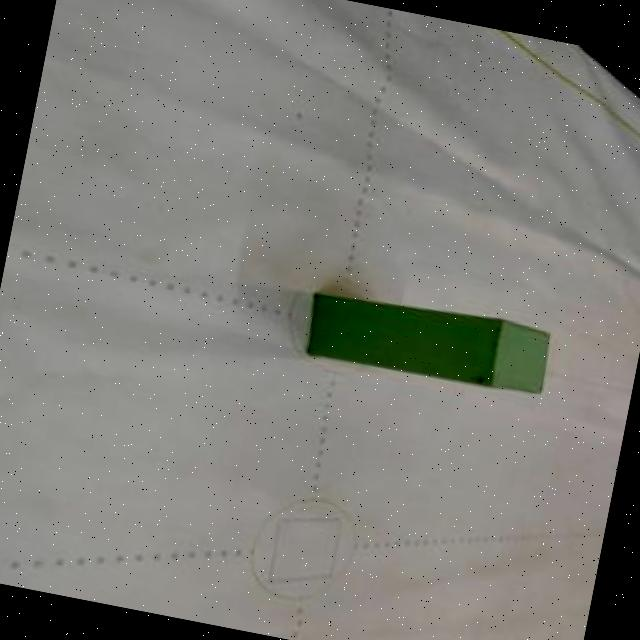greenbox: (298, 281, 559, 404)
